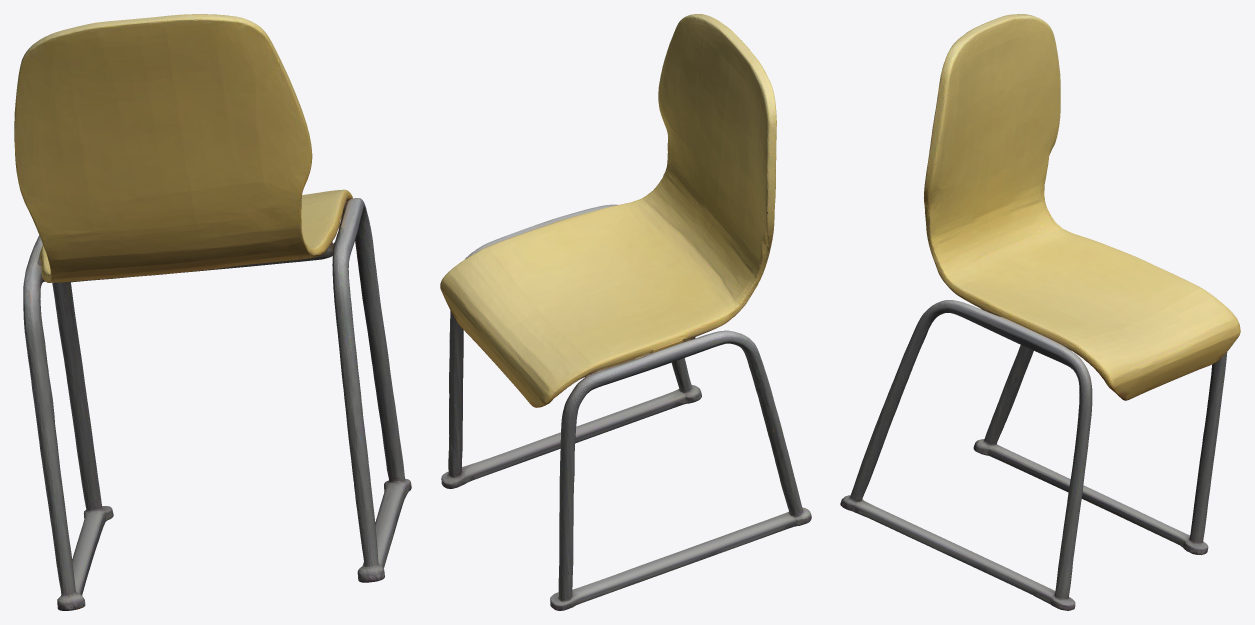
File: light-colored_wooden_chair_at_back_row_left_table_(right)_000.glb
3 renders of one model, left to right at view 1: azimuth 30°, elevation 25°; view 2: azimuth 150°, elevation 25°; view 3: azimuth 270°, elevation 25°, orthographic. The views are drawn at different scales.
Parts seen in each view (by area): view 1: light-colored_wooden_chair_at_back_row_left_table_(right)_00; view 2: light-colored_wooden_chair_at_back_row_left_table_(right)_00; view 3: light-colored_wooden_chair_at_back_row_left_table_(right)_00.
Boxes of the visible parts, x1=… form: light-colored_wooden_chair_at_back_row_left_table_(right)_00: x1=14, y1=14, x2=411, y2=610; light-colored_wooden_chair_at_back_row_left_table_(right)_00: x1=440, y1=14, x2=811, y2=610; light-colored_wooden_chair_at_back_row_left_table_(right)_00: x1=840, y1=14, x2=1240, y2=610.
Bounding box in the file's own units: 0.3109 × 0.4595 × 0.3349.
Materials: 1 (1 with a texture image).
